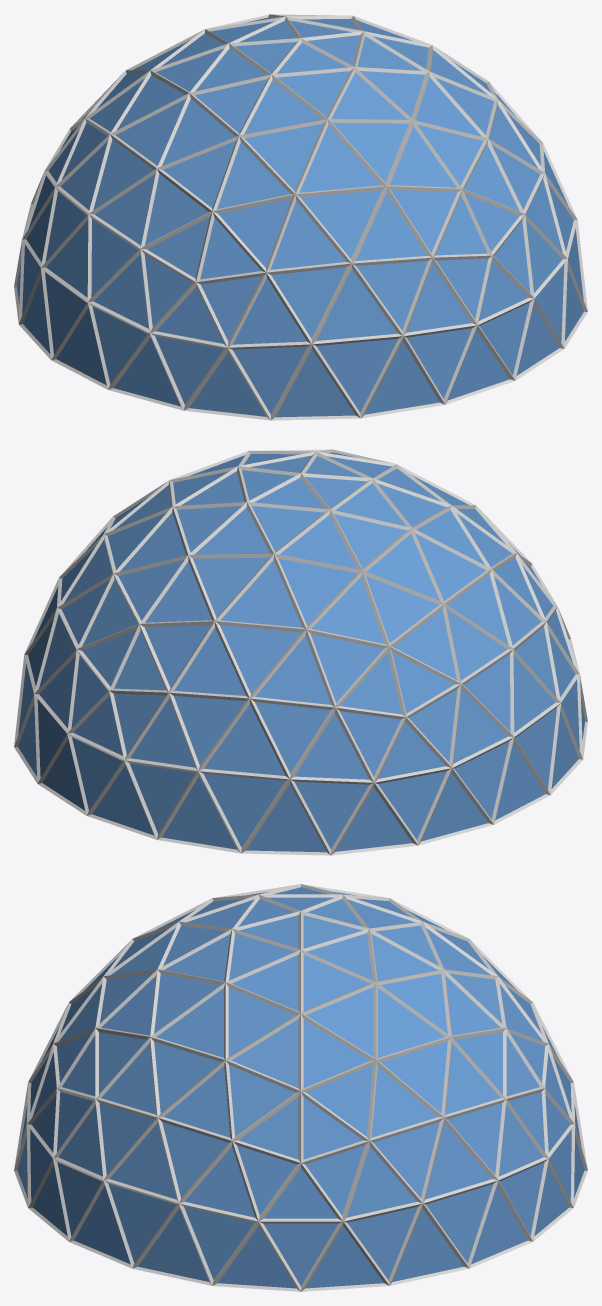
File: biosphere.fbx
The picture shows the model from 3 angles, top to bottom: view 1: azimuth 30°, elevation 25°; view 2: azimuth 150°, elevation 25°; view 3: azimuth 270°, elevation 25°; orthographic projection.
Visible parts, largest first — view 1: Icosphere; view 2: Icosphere; view 3: Icosphere.
Boxes of the visible parts, x1,y1,x2,y2 form: Icosphere: [14, 14, 587, 420]; Icosphere: [14, 449, 587, 855]; Icosphere: [14, 884, 587, 1291].
Bounding box in the file's own units: 2560 × 1281 × 2560.
